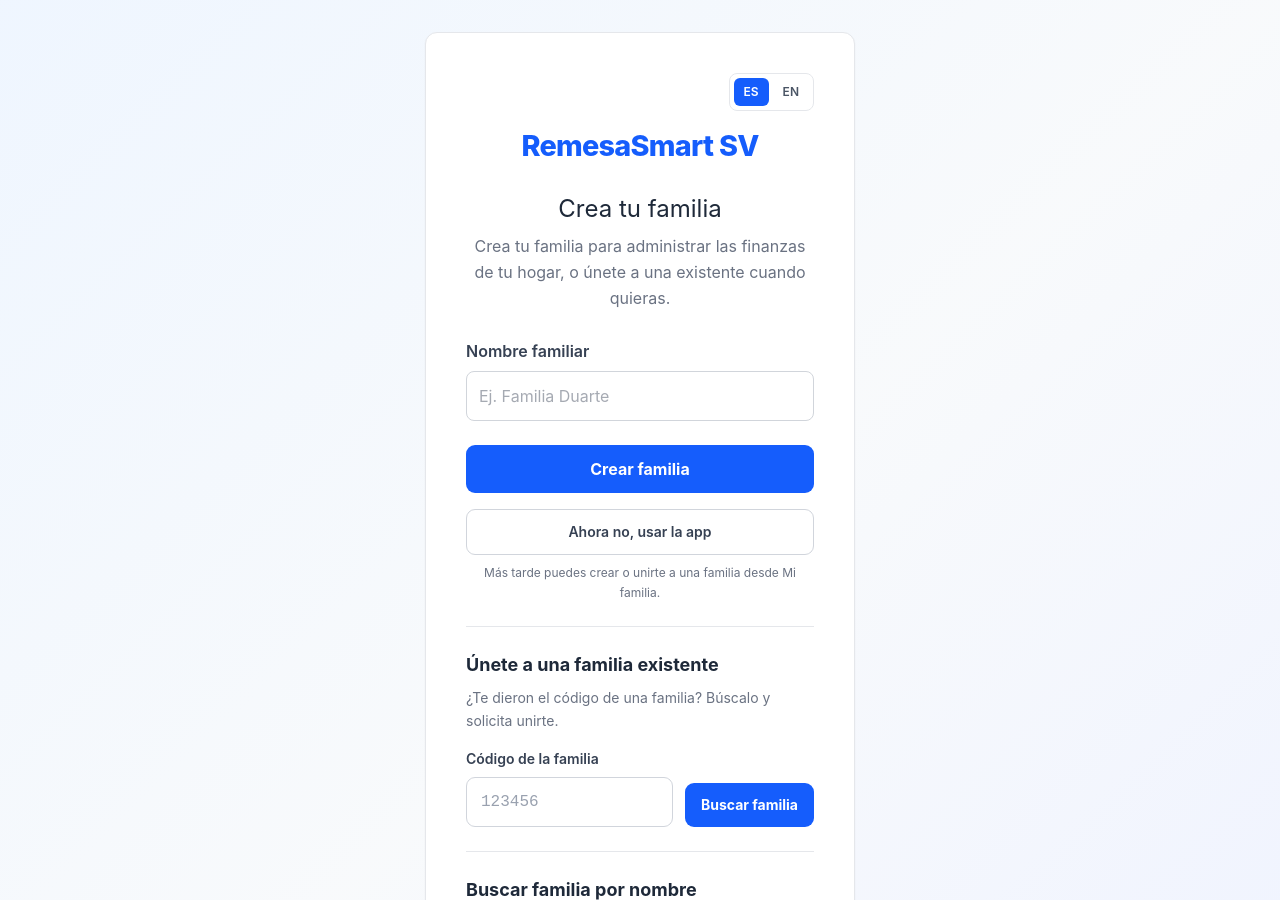
Scenario: HogarPendiente › muestra el error del backend (404) cuando el código no existe
Type "RS-FAM-ABCDEF23456789XY" into the field labelled "Código de la familia".
click(569, 802); type("RS-FAM-ABCDEF23456789XY")  # box [466, 777, 673, 827]
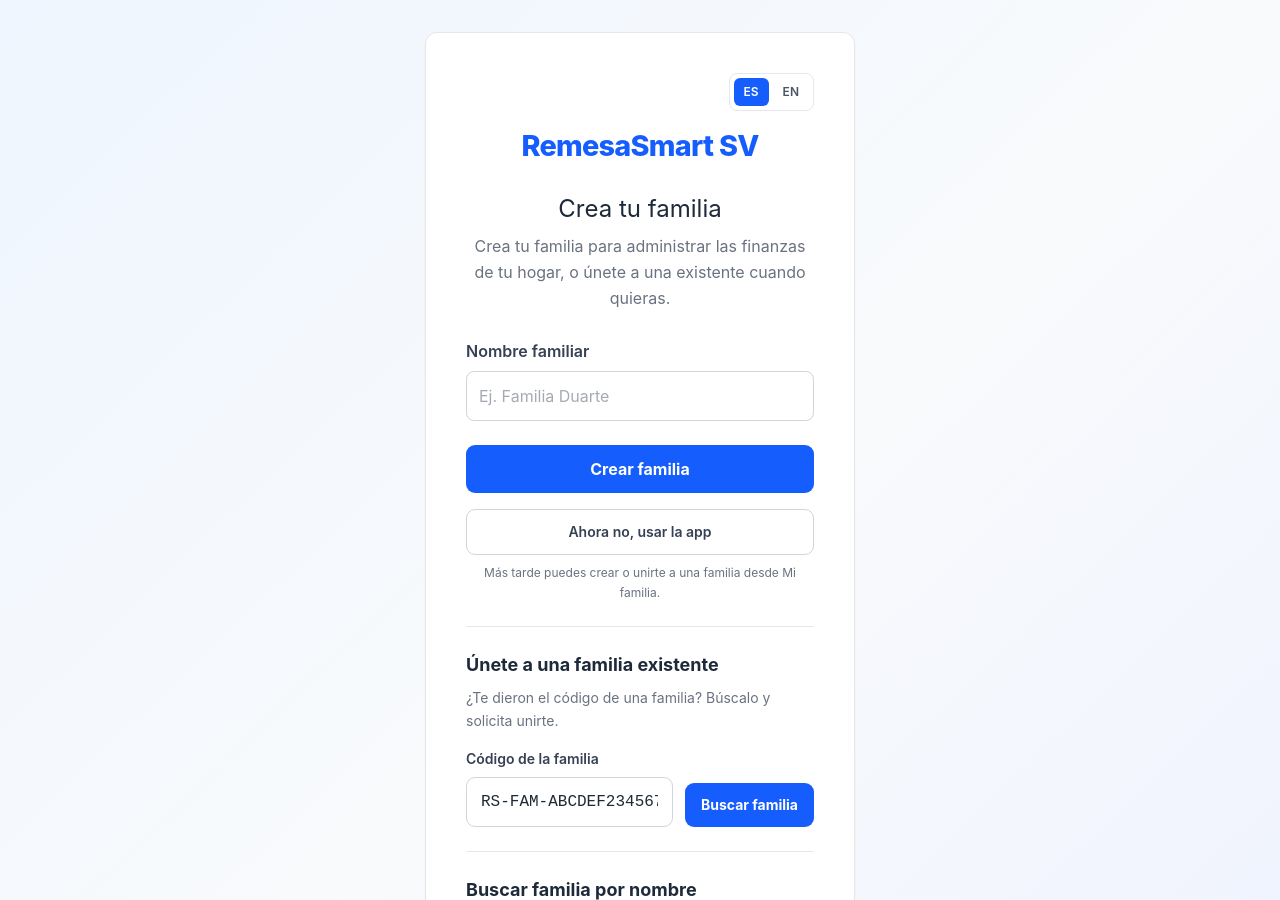
Click the button "Buscar familia".
click(749, 805)  # box [685, 783, 814, 827]
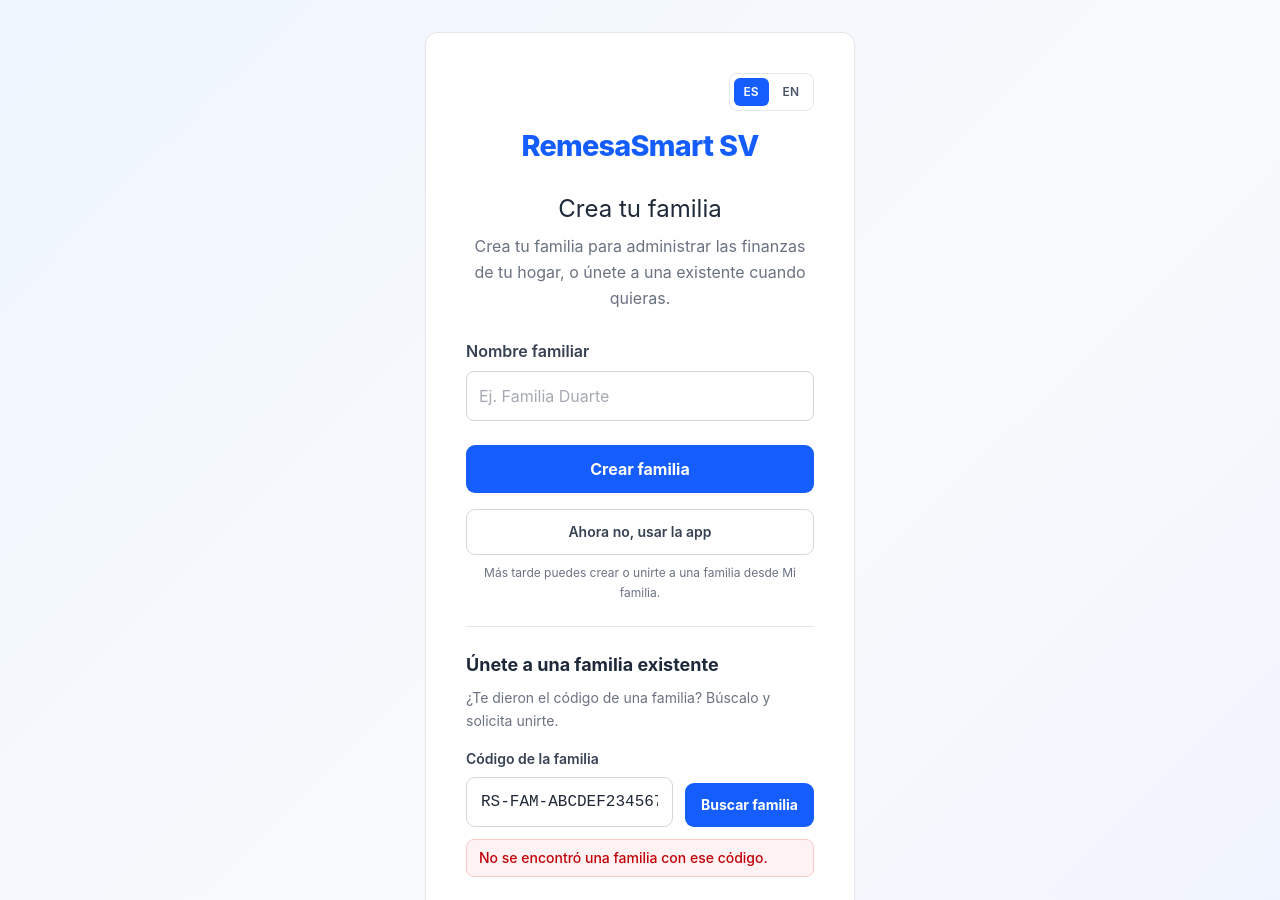
Expected: the text "No se encontró una familia con ese código." is shown, [466, 839, 814, 877]
